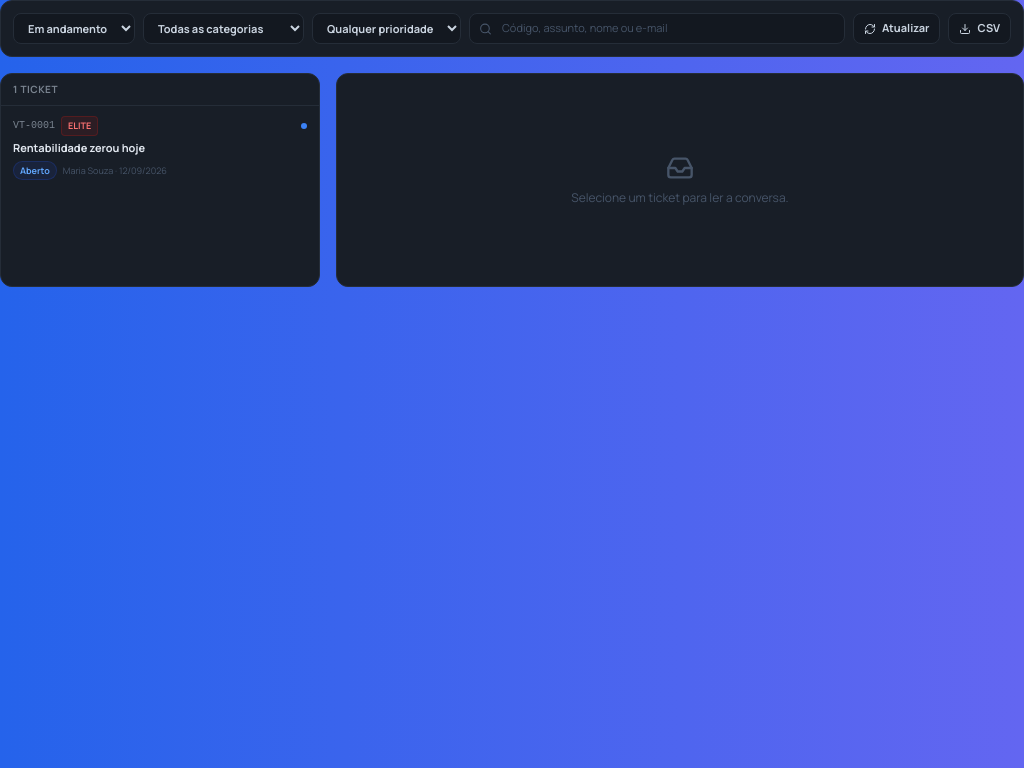
Test: exclusão do ticket › cancelar fecha a pergunta sem tocar no ticket
Click the text "Rentabilidade zerou hoje" at [79, 147], box left=13, top=140, right=145, bottom=154
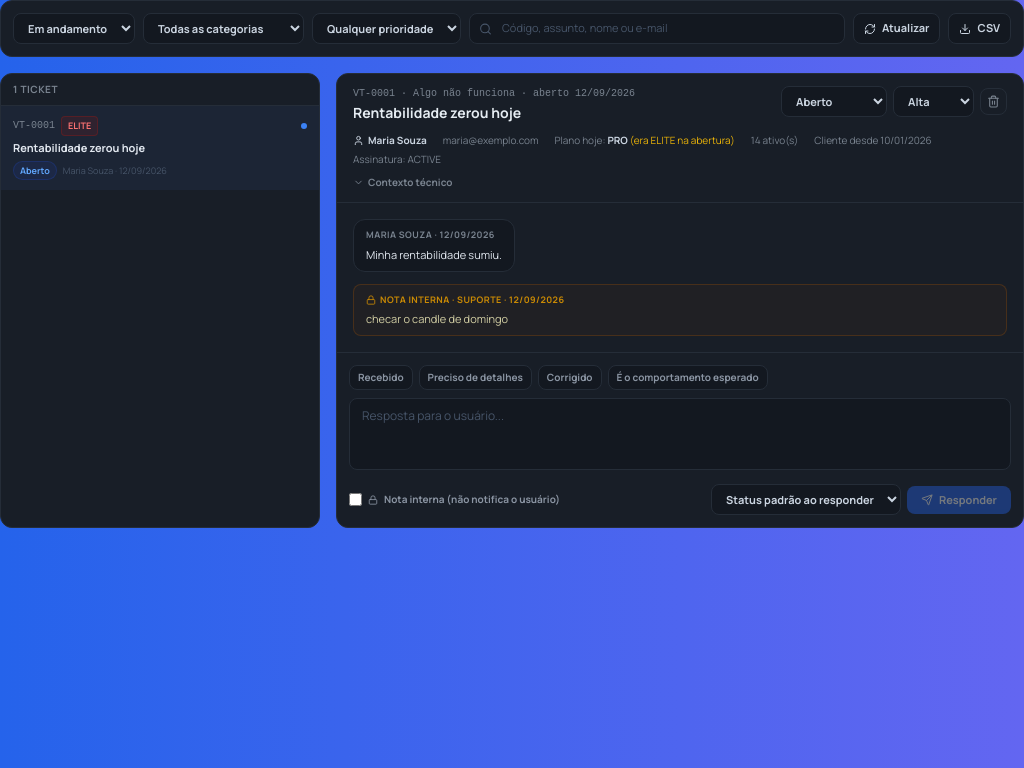
Click the button named "excluir ticket" at [994, 102], box left=980, top=88, right=1007, bottom=115
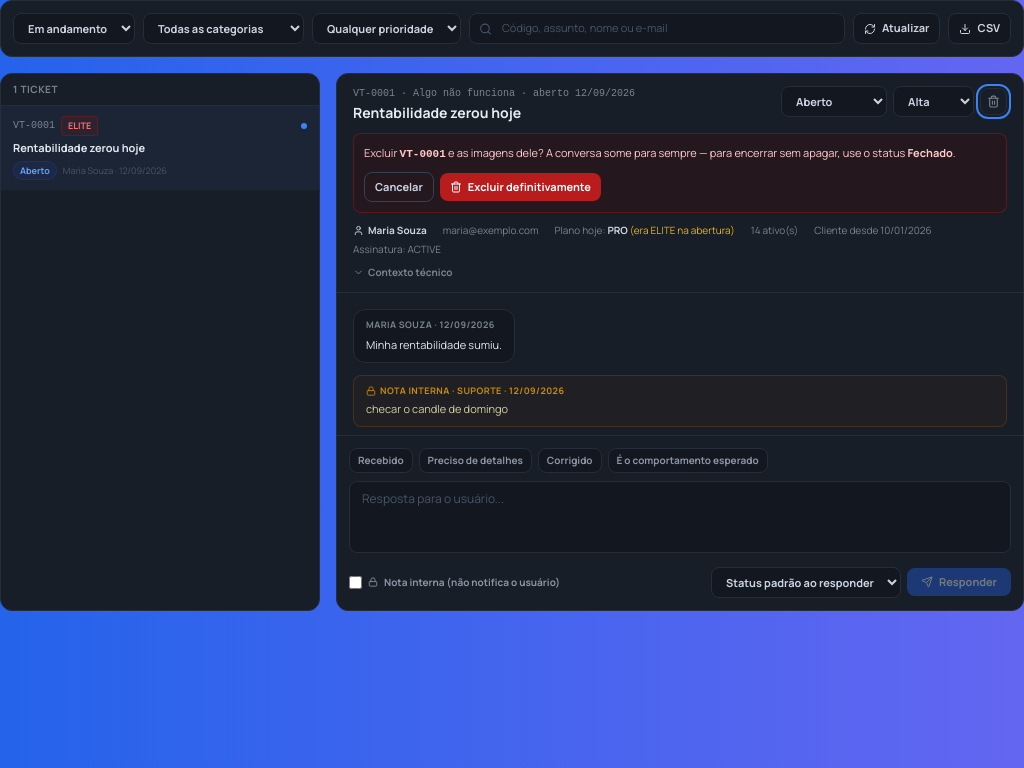
Click the button "Cancelar" at [399, 187], box left=364, top=172, right=434, bottom=202
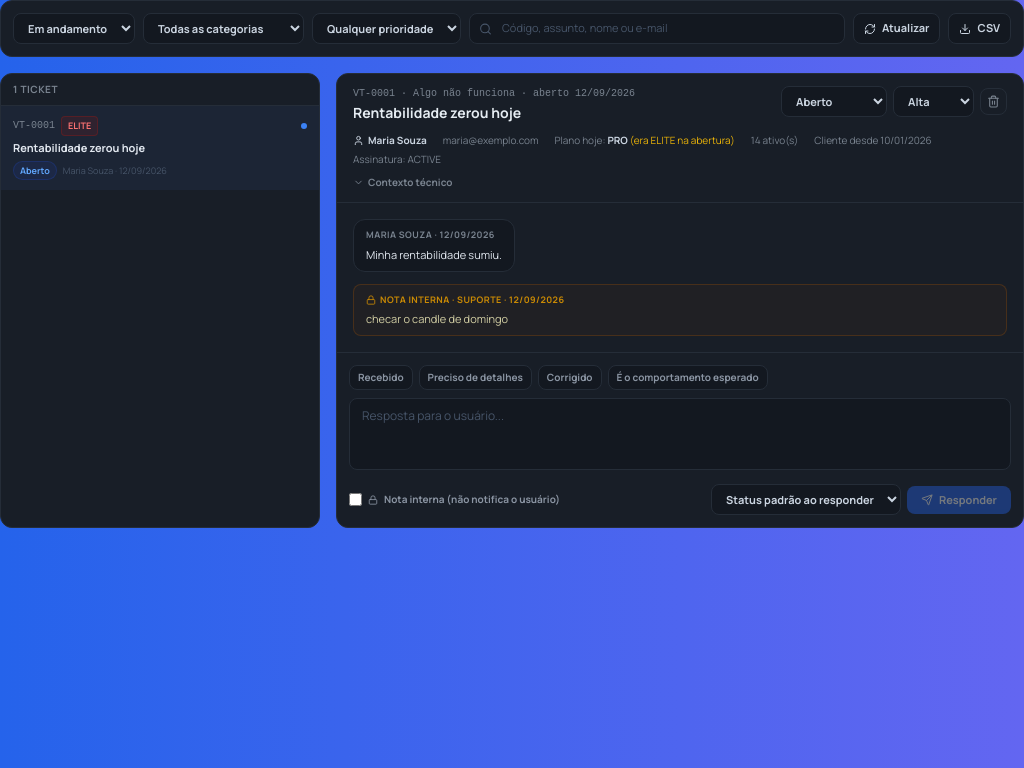
Now the text "some para sempre" is gone
